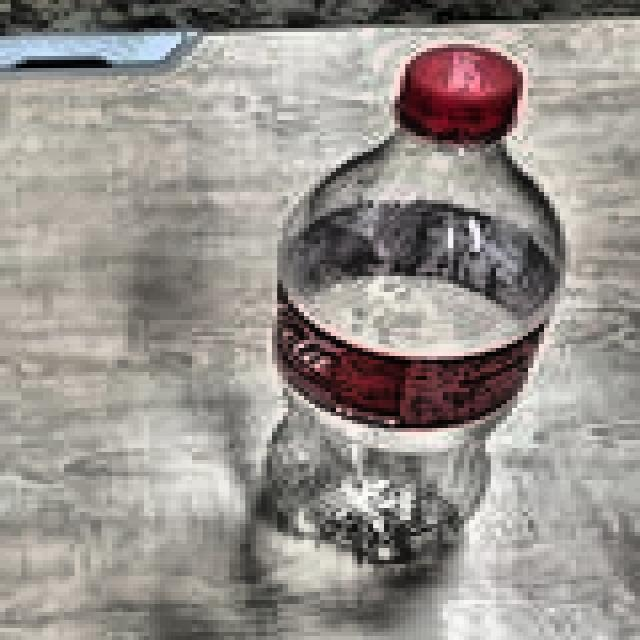plastic: (256, 30, 571, 598)
